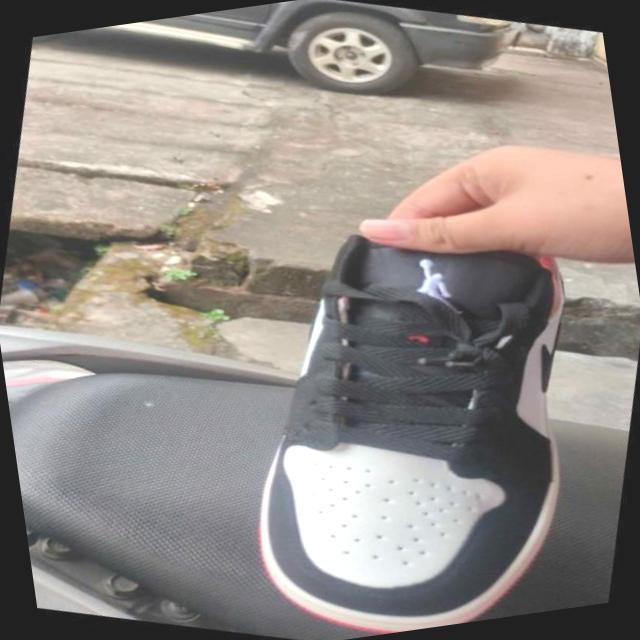nike_fake_jordan: (185, 183, 625, 640)
